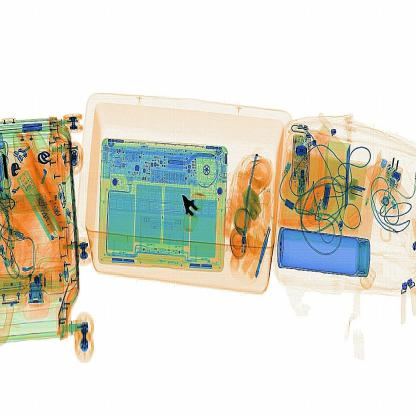gun: (166, 175, 210, 239)
